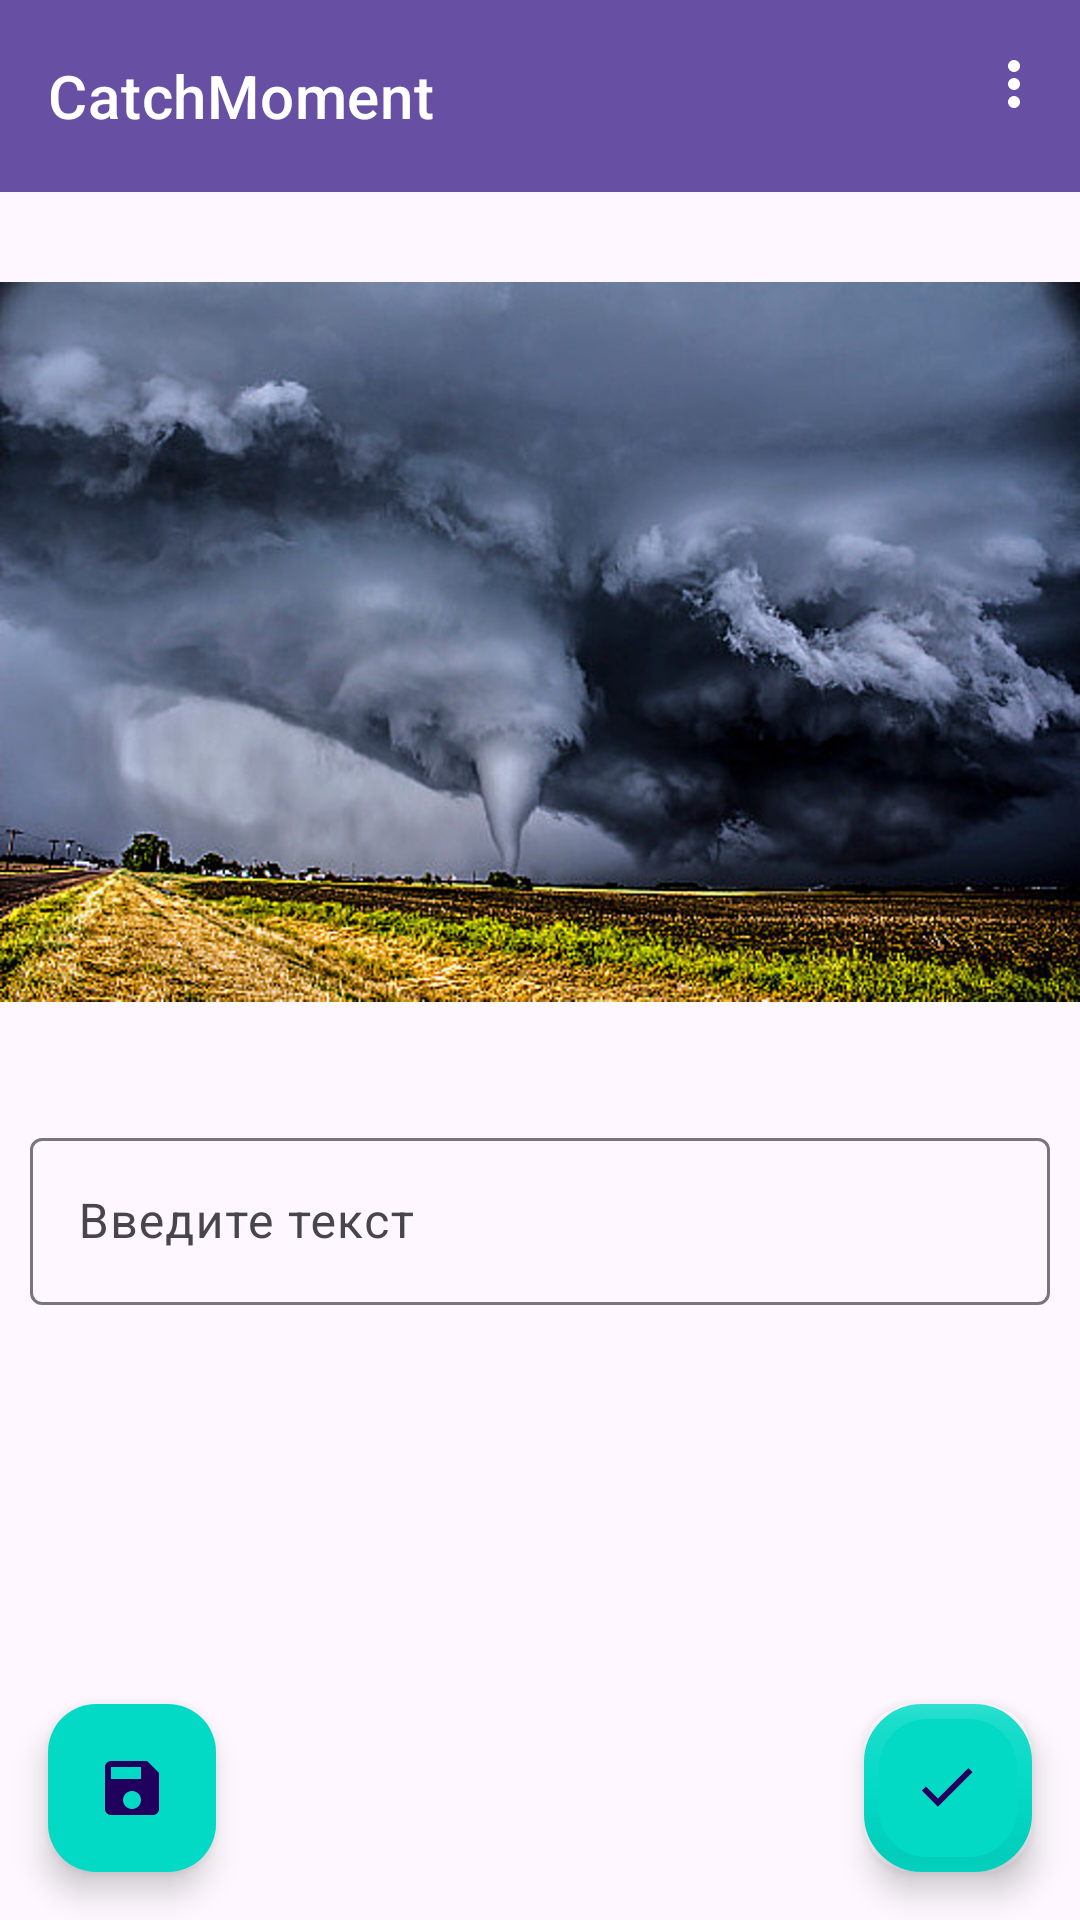

Named icons in this screenshot (1080x1920) and their bounding boxes, (x1, y1, x2, y2):
check: (864, 1704, 1032, 1872)
save: (48, 1704, 216, 1872)
